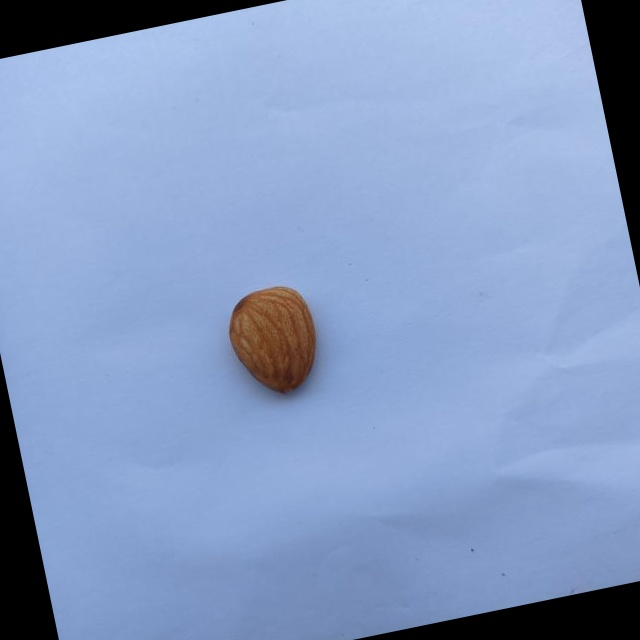grade1: (214, 272, 338, 411)
